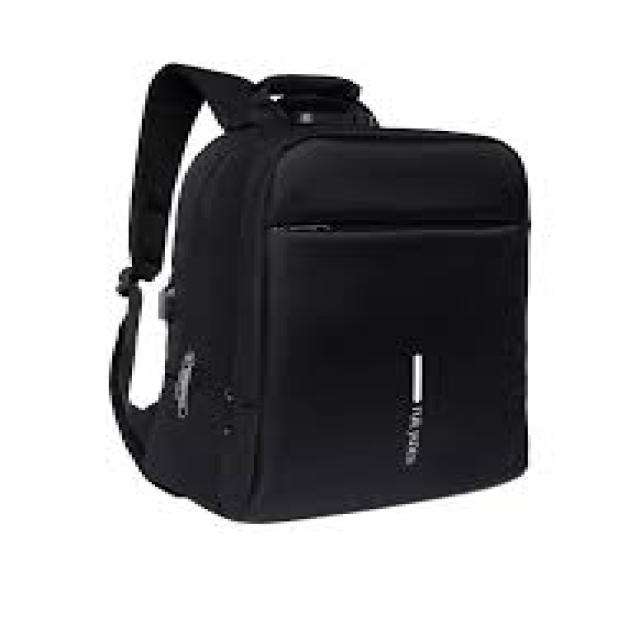backpack: (107, 60, 532, 525)
